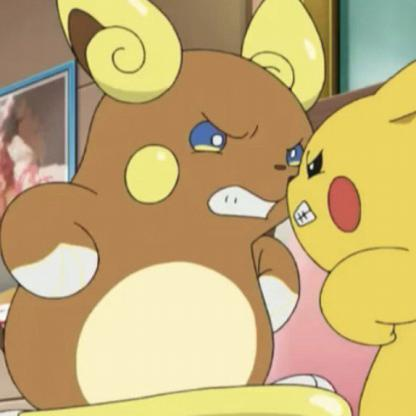Raichu: (1, 66, 416, 416)
